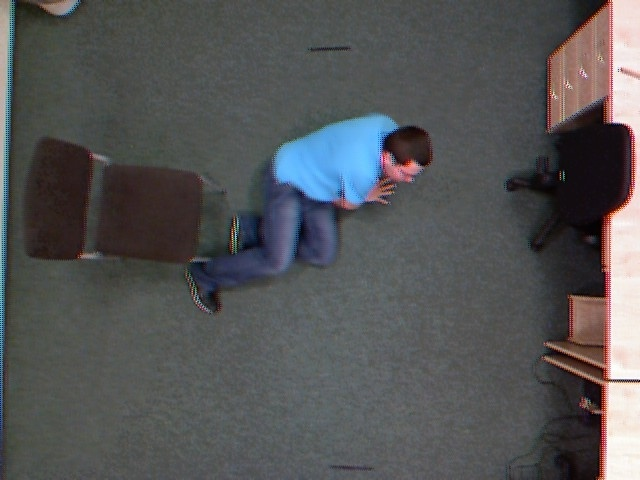fall: (179, 102, 445, 320)
